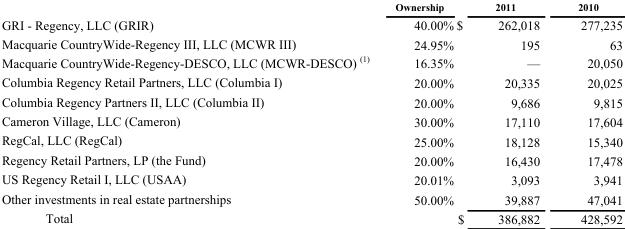table: (0, 1, 621, 225)
table column: (0, 1, 381, 225), (454, 1, 558, 225), (381, 1, 454, 225), (558, 1, 621, 225)
table column header: (0, 1, 621, 15)
table row: (0, 52, 621, 72), (0, 72, 621, 92), (0, 130, 621, 150), (0, 169, 621, 189), (0, 15, 621, 34), (0, 92, 621, 111), (0, 111, 621, 130), (0, 150, 621, 169), (0, 189, 621, 208), (0, 34, 621, 52), (0, 208, 621, 225), (0, 1, 621, 15)
